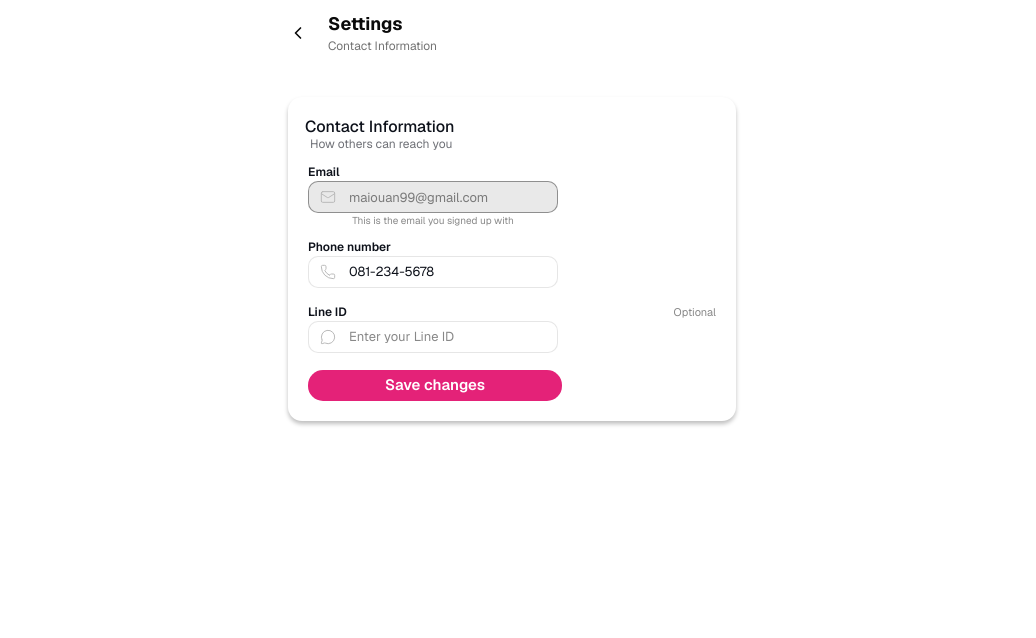
Scenario: ContactSettings › blocks a phone that isn't 10 digits
Replace the text in the field labelled "Phone number" with "088-88" at (433, 272), box x1=308 y1=256 x2=558 y2=288
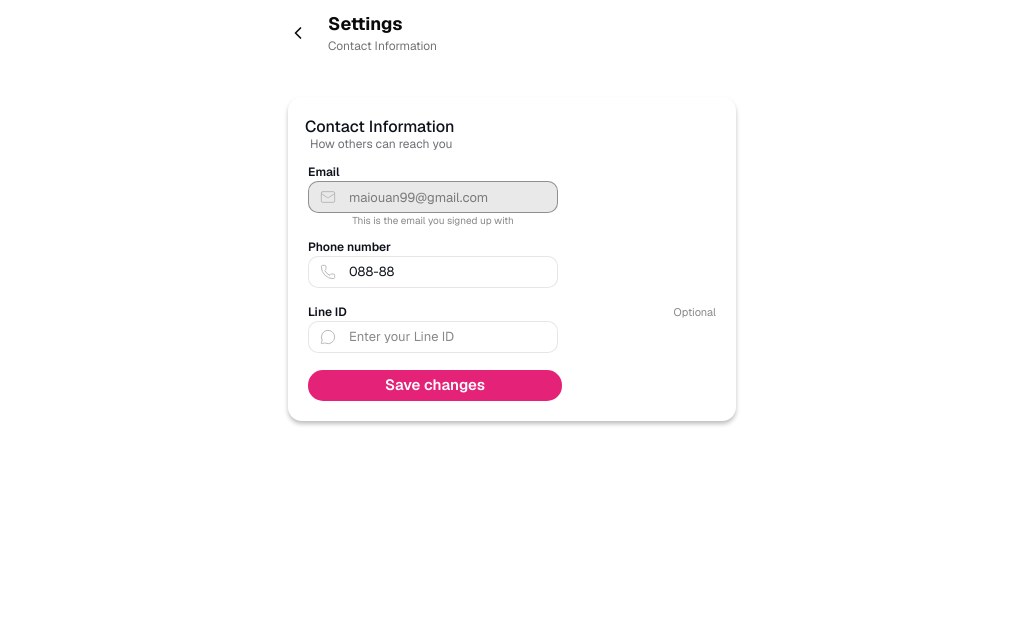
Click the button "Save changes" at (435, 385), box x1=308 y1=370 x2=562 y2=401
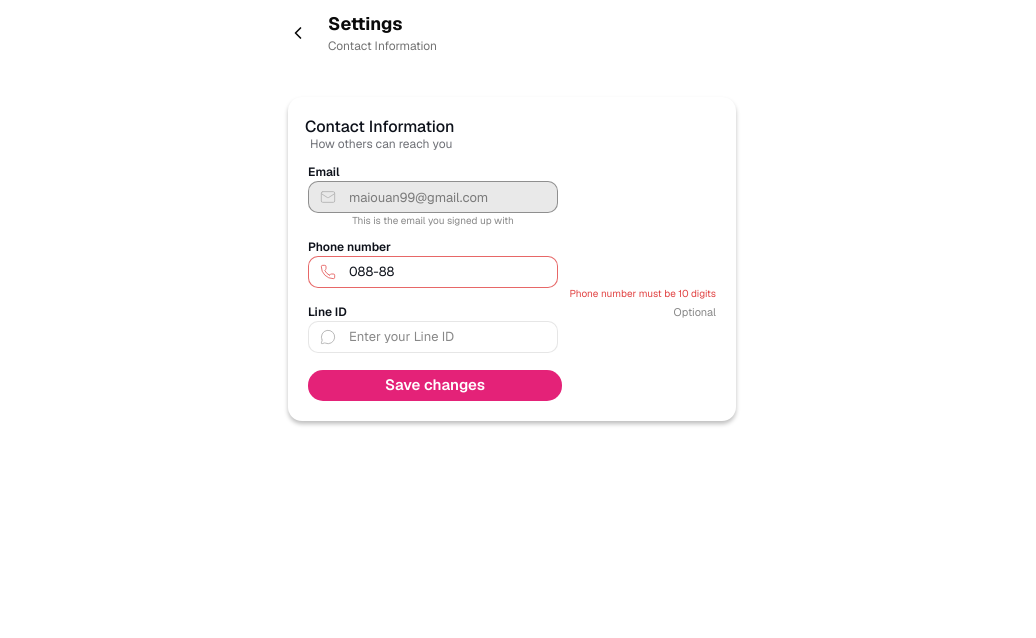
Check: the text "Phone number must be 10 digits" is shown, box x1=570 y1=288 x2=716 y2=300
